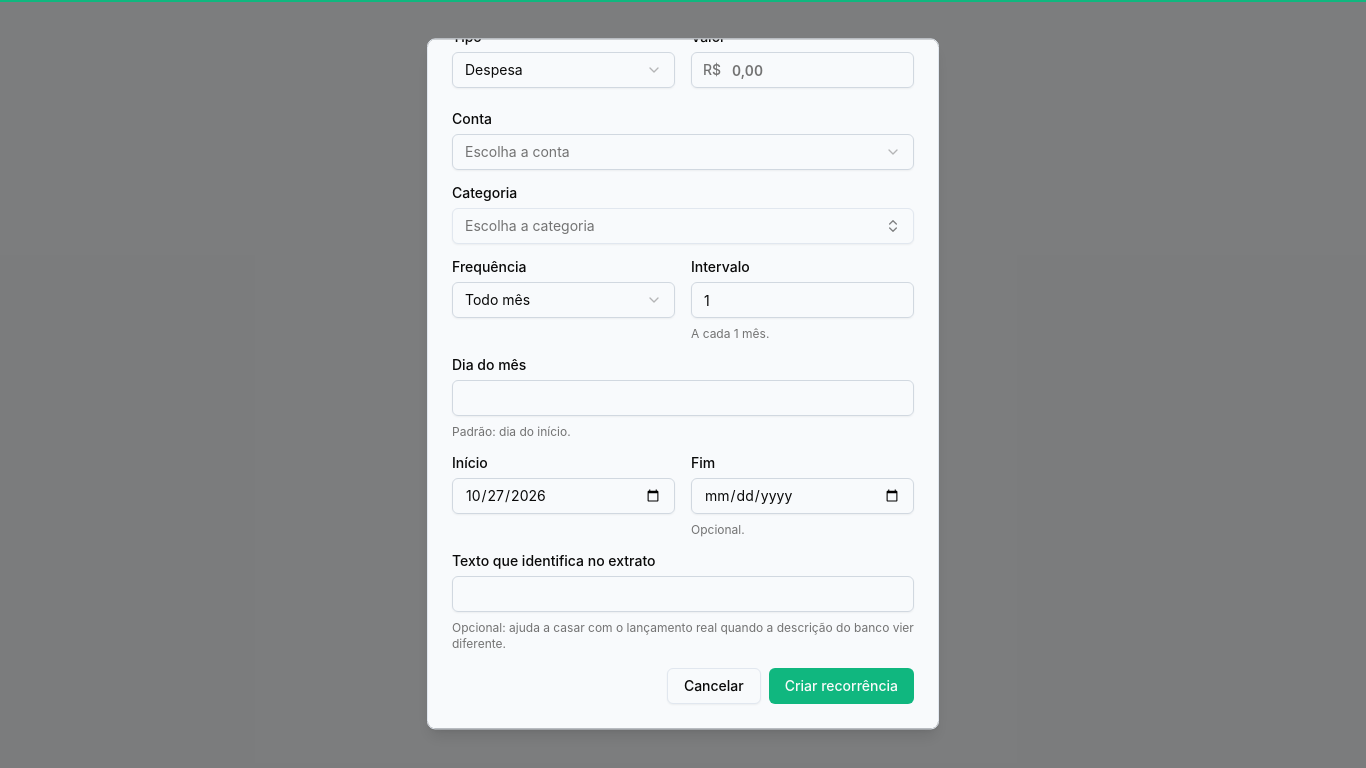
Test: RecurrenceFormDialog › valida a descrição antes de enviar
(page scrolled)
Click the button "Criar recorrência". click: (841, 686)
box: [769, 668, 914, 704]
(page scrolled)
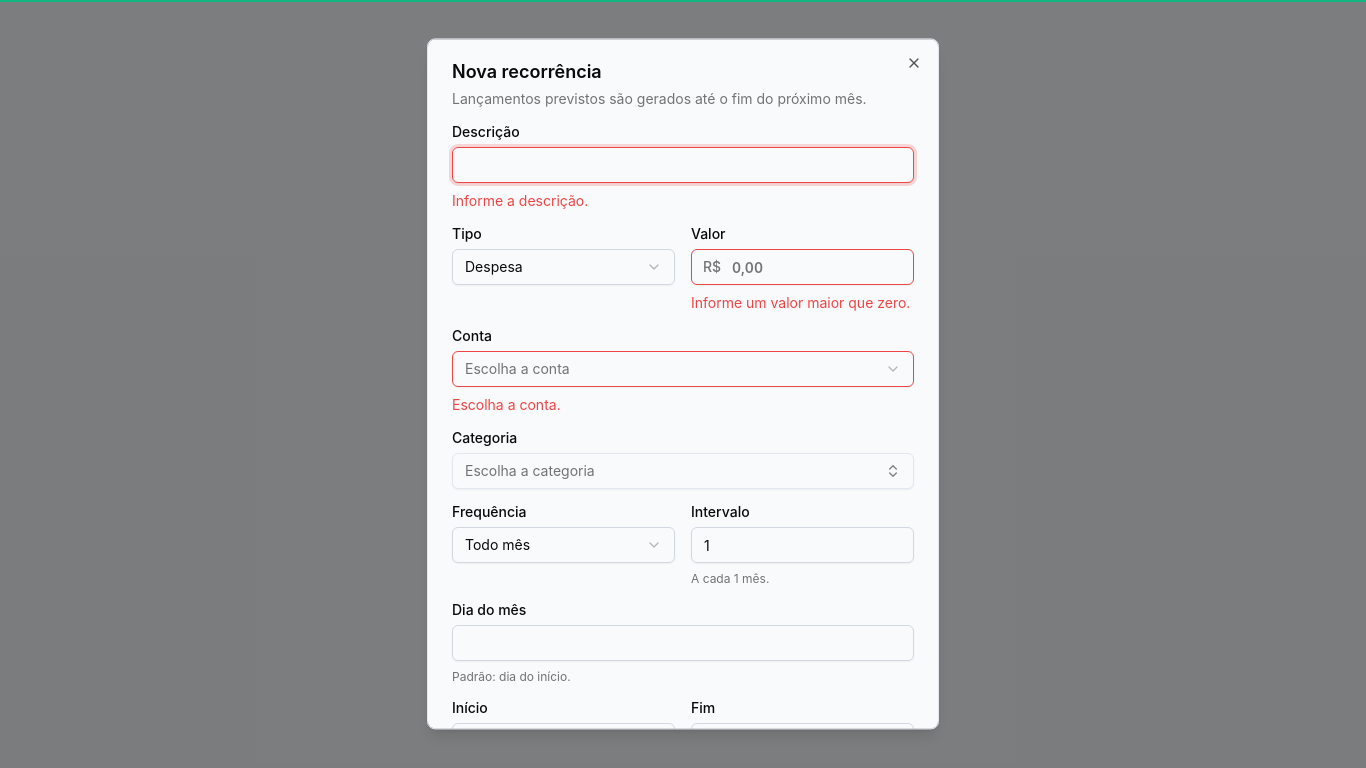
Expected: the text "Informe a descrição." is shown, [452, 192, 588, 209]
